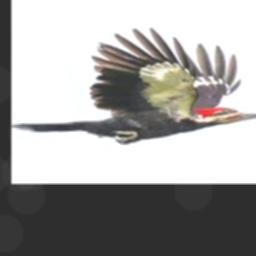Woodpecker: (12, 27, 256, 145)
